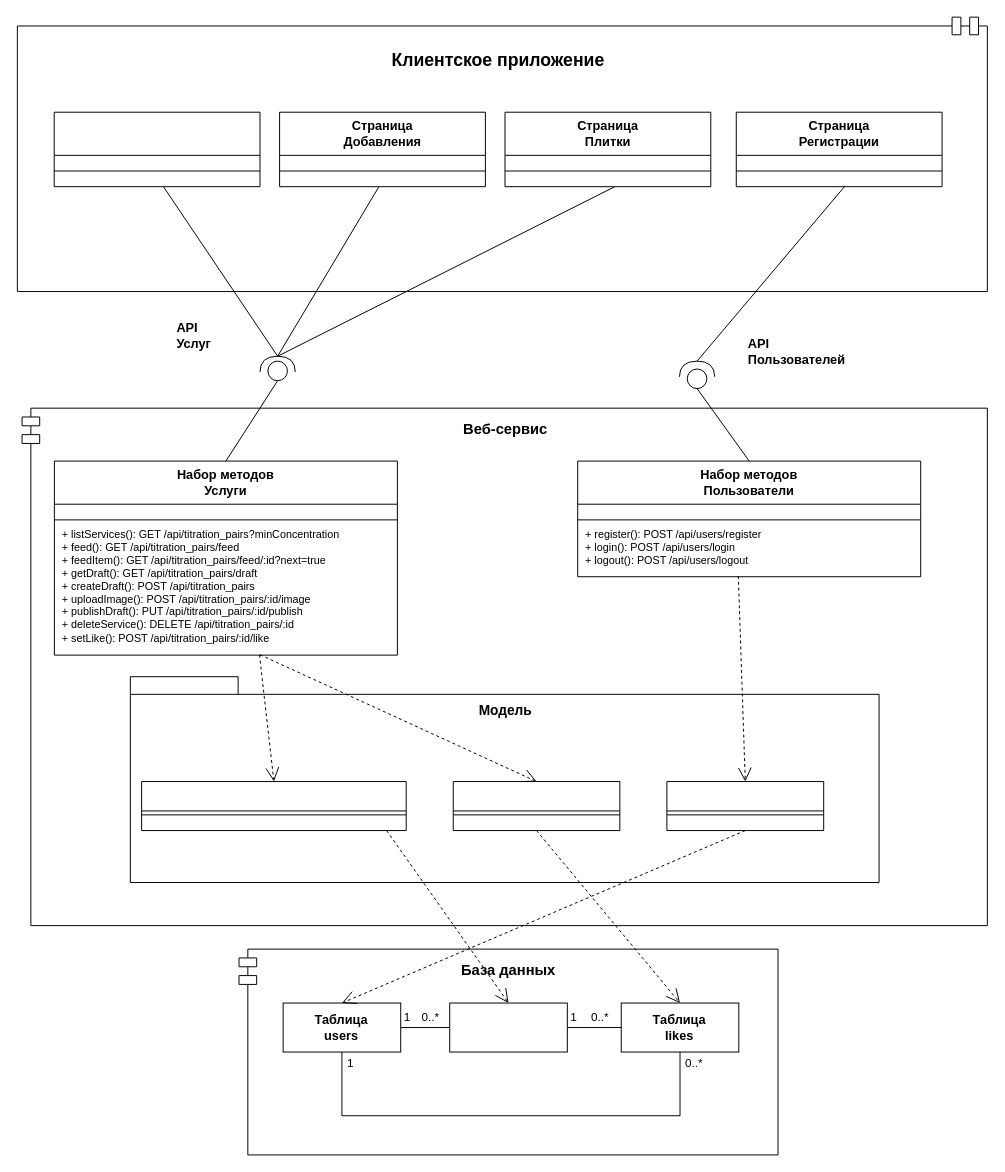
This 1005x1172 diagram has some shape labels left out. Each missing label, with the centre of its shape:
"Like" goes at (536,806).
"Titration" goes at (273,806).
"User" goes at (745,806).
"Страница Ленты" goes at (156,149).
"Таблица titrations" goes at (508,1027).
